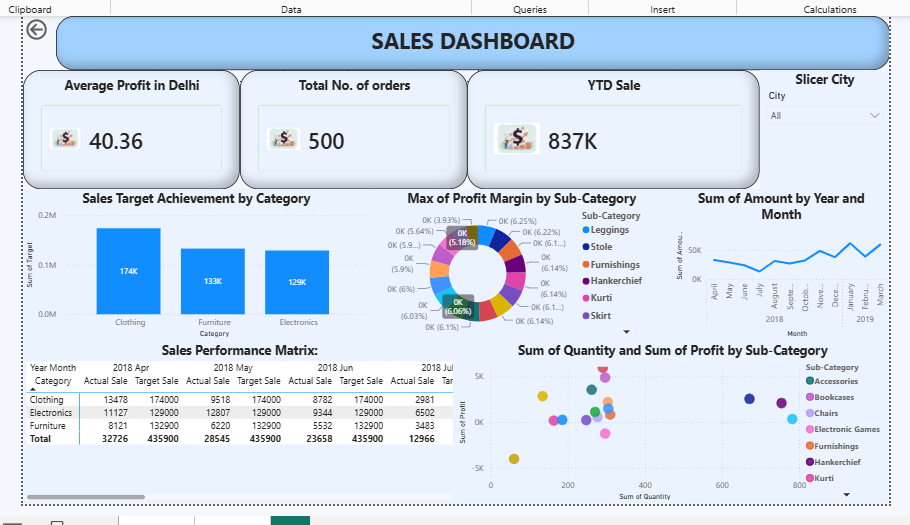

This screenshot's page, from the dashboard's own definition file:
{"tool":"powerbi","page":{"name":"Page 1","canvas":[1280,720],"ordinal":0},"visuals":[{"type":"cardVisual","title":"Average Profit in Delhi","fields":{"Data":["Measure table.Average Profit in Delhi"]},"box":[0,80,320,176],"z":0},{"type":"cardVisual","title":"Total No. of orders","fields":{"Data":["Measure table.total No. of Orders"]},"box":[320,80,336,176],"z":1000},{"type":"cardVisual","title":"YTD Sale","fields":{"Data":["Measure table.Measure"]},"box":[656,80,432,176],"z":2000},{"type":"clusteredColumnChart","title":"Sales Target Achievement by Category","fields":{"Category":["Sales target.Category"],"Y":["Sum(Sales target.Target)"]},"box":[0,256,512,224],"z":3000},{"type":"donutChart","fields":{"Y":["Max(Order Details.Profit Margin)"],"Category":["Order Details.Sub-Category"]},"box":[512,256,448,224],"z":4000},{"type":"actionButton","box":[0,0,100,40],"z":5000},{"type":"scatterChart","fields":{"X":["Sum(Order Details.Quantity)"],"Y":["Sum(Order Details.Profit)"],"Series":["Order Details.Sub-Category"]},"box":[640,480,640,240],"z":6000},{"type":"lineChart","fields":{"Y":["Sum(Order Details.Amount)"],"Category":["Calendar.Year","Calendar.Month"]},"box":[960,256,320,224],"z":7000},{"type":"pivotTable","title":"Sales Performance Matrix:","fields":{"Rows":["Sales target.Category"],"Columns":["Calendar.Year Month"],"Values":["Sum(Order Details.Amount)","Sum(Sales target.Target)"]},"box":[0,480,640,240],"z":8000},{"type":"textbox","box":[48,0,1232,80],"z":9000},{"type":"slicer","title":"Slicer City","fields":{"Values":["List of Orders.City"]},"box":[1088,80,192,176],"z":10000}]}

Visuals, with their boxes in screenshot pixels (x1, y1, x2, y2):
"Average Profit in Delhi" cardVisual: x1=21, y1=68, x2=238, y2=187
"Total No. of orders" cardVisual: x1=238, y1=68, x2=465, y2=187
"YTD Sale" cardVisual: x1=465, y1=68, x2=757, y2=187
"Sales Target Achievement by Category" clusteredColumnChart: x1=21, y1=187, x2=368, y2=339
donutChart - Max(Order Details.Profit Margin) x Order Details.Sub-Category: x1=368, y1=187, x2=671, y2=339
actionButton: x1=21, y1=14, x2=89, y2=41
scatterChart - Sum(Order Details.Quantity) x Sum(Order Details.Profit): x1=454, y1=339, x2=887, y2=501
lineChart - Sum(Order Details.Amount) x Calendar.Year: x1=671, y1=187, x2=887, y2=339
"Sales Performance Matrix:" pivotTable: x1=21, y1=339, x2=454, y2=501
textbox: x1=54, y1=14, x2=887, y2=68
"Slicer City" slicer: x1=757, y1=68, x2=887, y2=187
